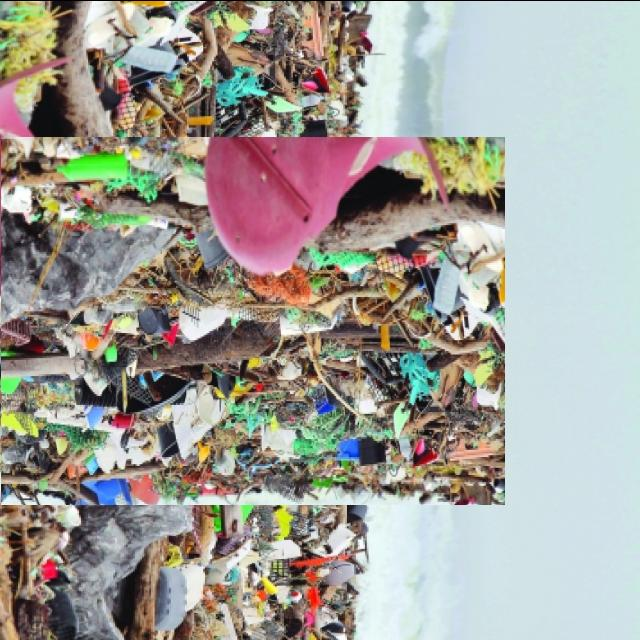garbage: (0, 67, 437, 572)
